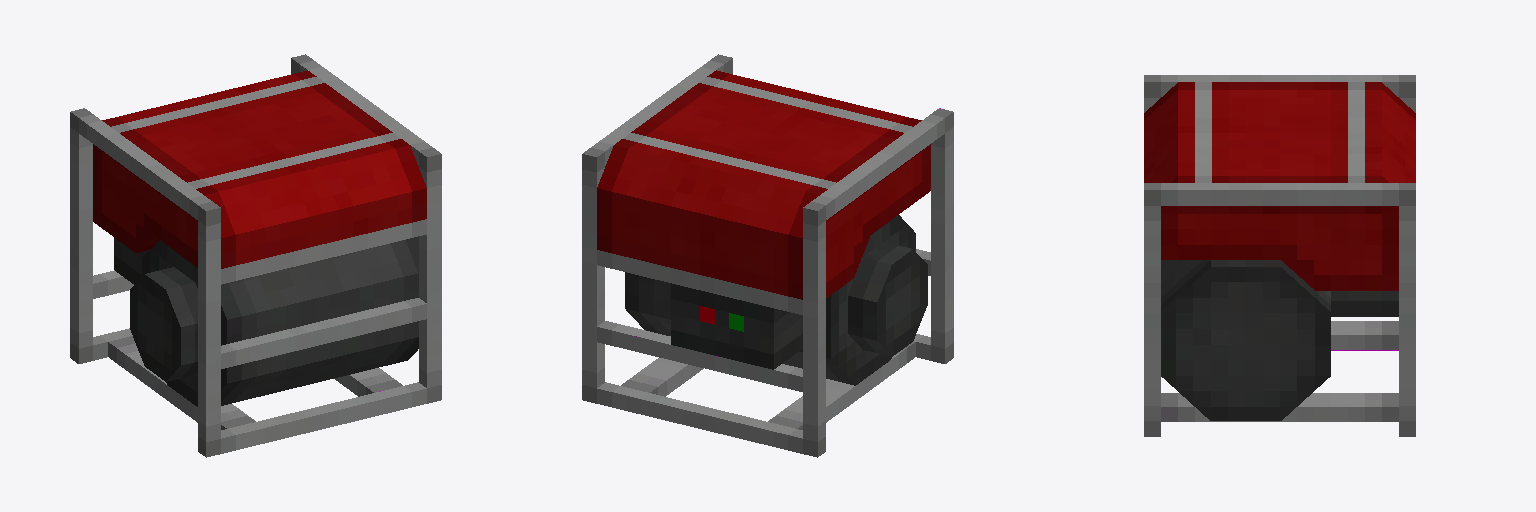
3 renders of one model, left to right at view 1: azimuth 30°, elevation 25°; view 2: azimuth 150°, elevation 25°; view 3: azimuth 270°, elevation 25°, orthographic.
Parts seen in each view (by area): view 1: group_2, group_3, Component_3, Component_2, group_1, Component_4, group_4; view 2: group_2, Component_3, Component_2, group_4, group_1, group_3, Component_4; view 3: group_2, group_3, Component_2, Component_3, Component_4, group_4.
Boxes of the visible parts, x1=… form: group_2: x1=93, y1=70, x2=426, y2=284; group_3: x1=142, y1=236, x2=418, y2=406; Component_3: x1=70, y1=127, x2=441, y2=441; Component_2: x1=70, y1=54, x2=441, y2=457; group_1: x1=130, y1=267, x2=197, y2=381; Component_4: x1=108, y1=336, x2=402, y2=429; group_4: x1=114, y1=238, x2=148, y2=284; group_2: x1=597, y1=70, x2=930, y2=314; Component_3: x1=582, y1=127, x2=953, y2=441; Component_2: x1=582, y1=54, x2=953, y2=457; group_4: x1=671, y1=283, x2=802, y2=369; group_1: x1=848, y1=242, x2=927, y2=356; group_3: x1=625, y1=215, x2=915, y2=385; Component_4: x1=621, y1=341, x2=915, y2=429; group_2: x1=1144, y1=82, x2=1415, y2=290; group_3: x1=1161, y1=260, x2=1330, y2=420; Component_2: x1=1144, y1=75, x2=1415, y2=436; Component_3: x1=1144, y1=98, x2=1415, y2=420; Component_4: x1=1161, y1=321, x2=1398, y2=421; group_4: x1=1331, y1=291, x2=1398, y2=316.
Bounding box in the file's own units: 1 × 1 × 1.
1 materials, 1 textured.